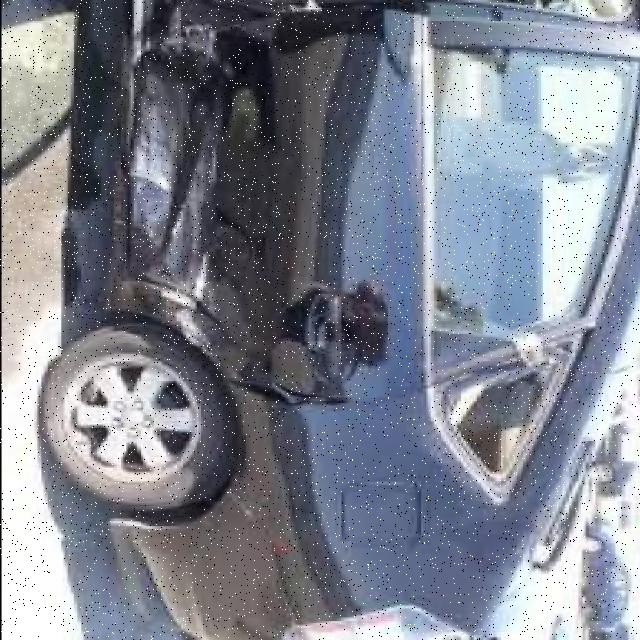damage: (99, 4, 356, 411), (434, 336, 598, 496)
